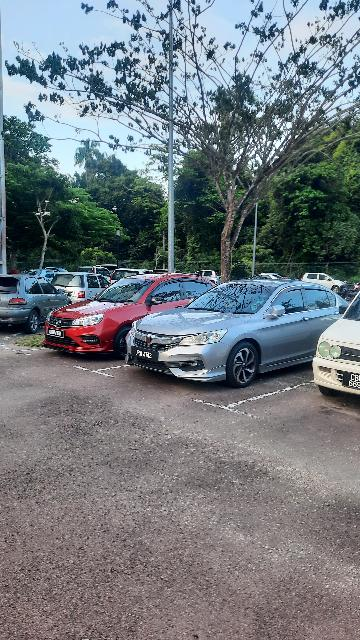License_Plate: (130, 347, 163, 363), (342, 372, 360, 393), (47, 327, 68, 341)
car: (126, 278, 349, 389), (41, 273, 223, 360), (315, 284, 360, 408)
